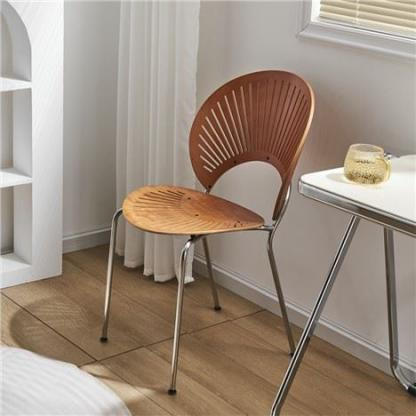chair: (96, 68, 310, 400)
